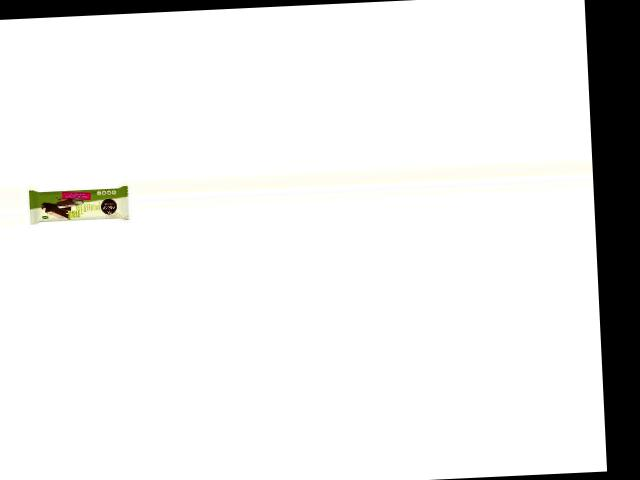chocolate: (26, 181, 128, 227)
